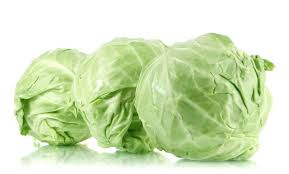cabbage: (130, 33, 273, 162), (86, 36, 166, 149), (12, 41, 94, 151)
